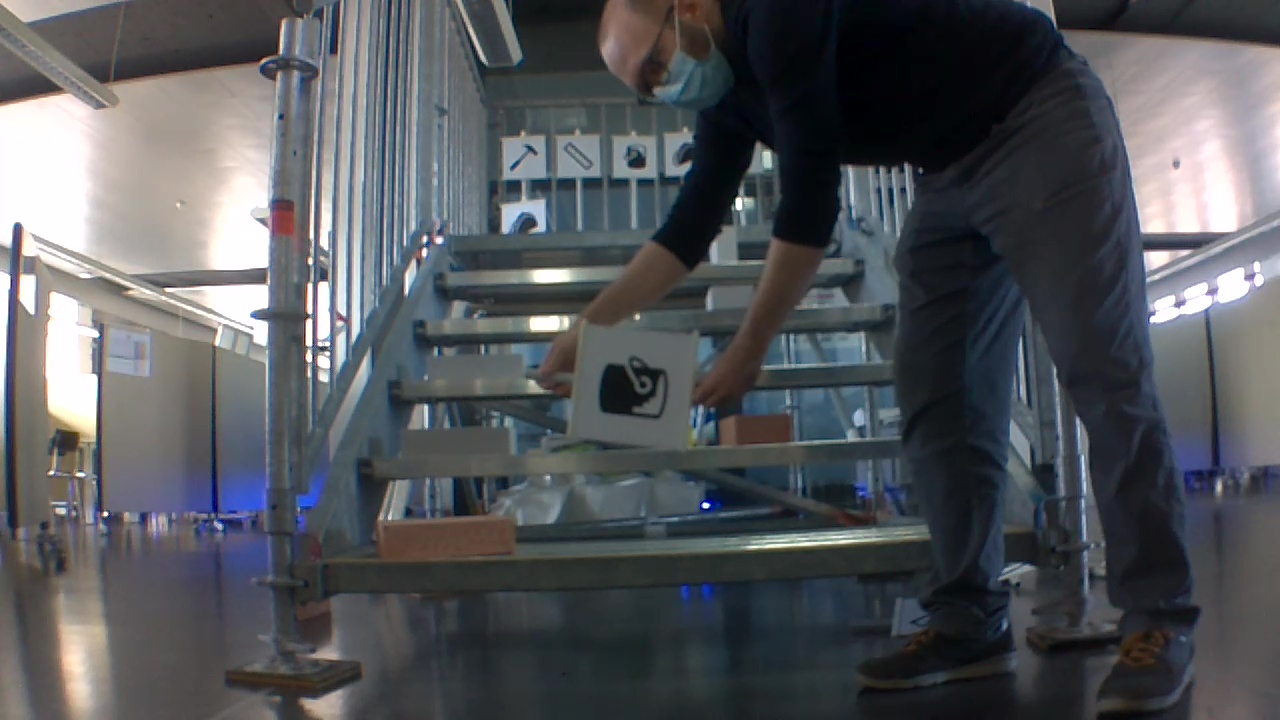brick: (379, 516, 513, 562), (401, 426, 515, 459), (428, 353, 523, 379), (720, 416, 789, 445), (704, 285, 751, 308)
bucket: (592, 351, 671, 420), (618, 140, 649, 173)
edge: (316, 531, 1037, 592)
hammer: (502, 140, 543, 173)
ruler: (559, 139, 597, 172)
taco: (505, 206, 538, 234)
